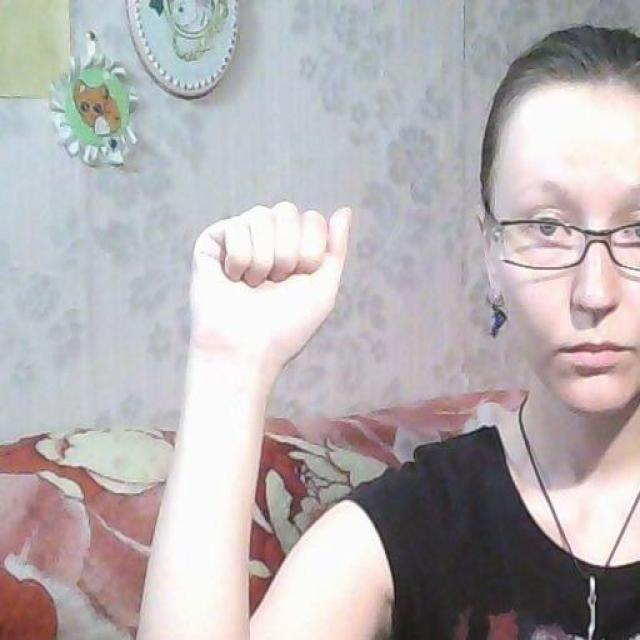hand: (188, 199, 352, 380)
